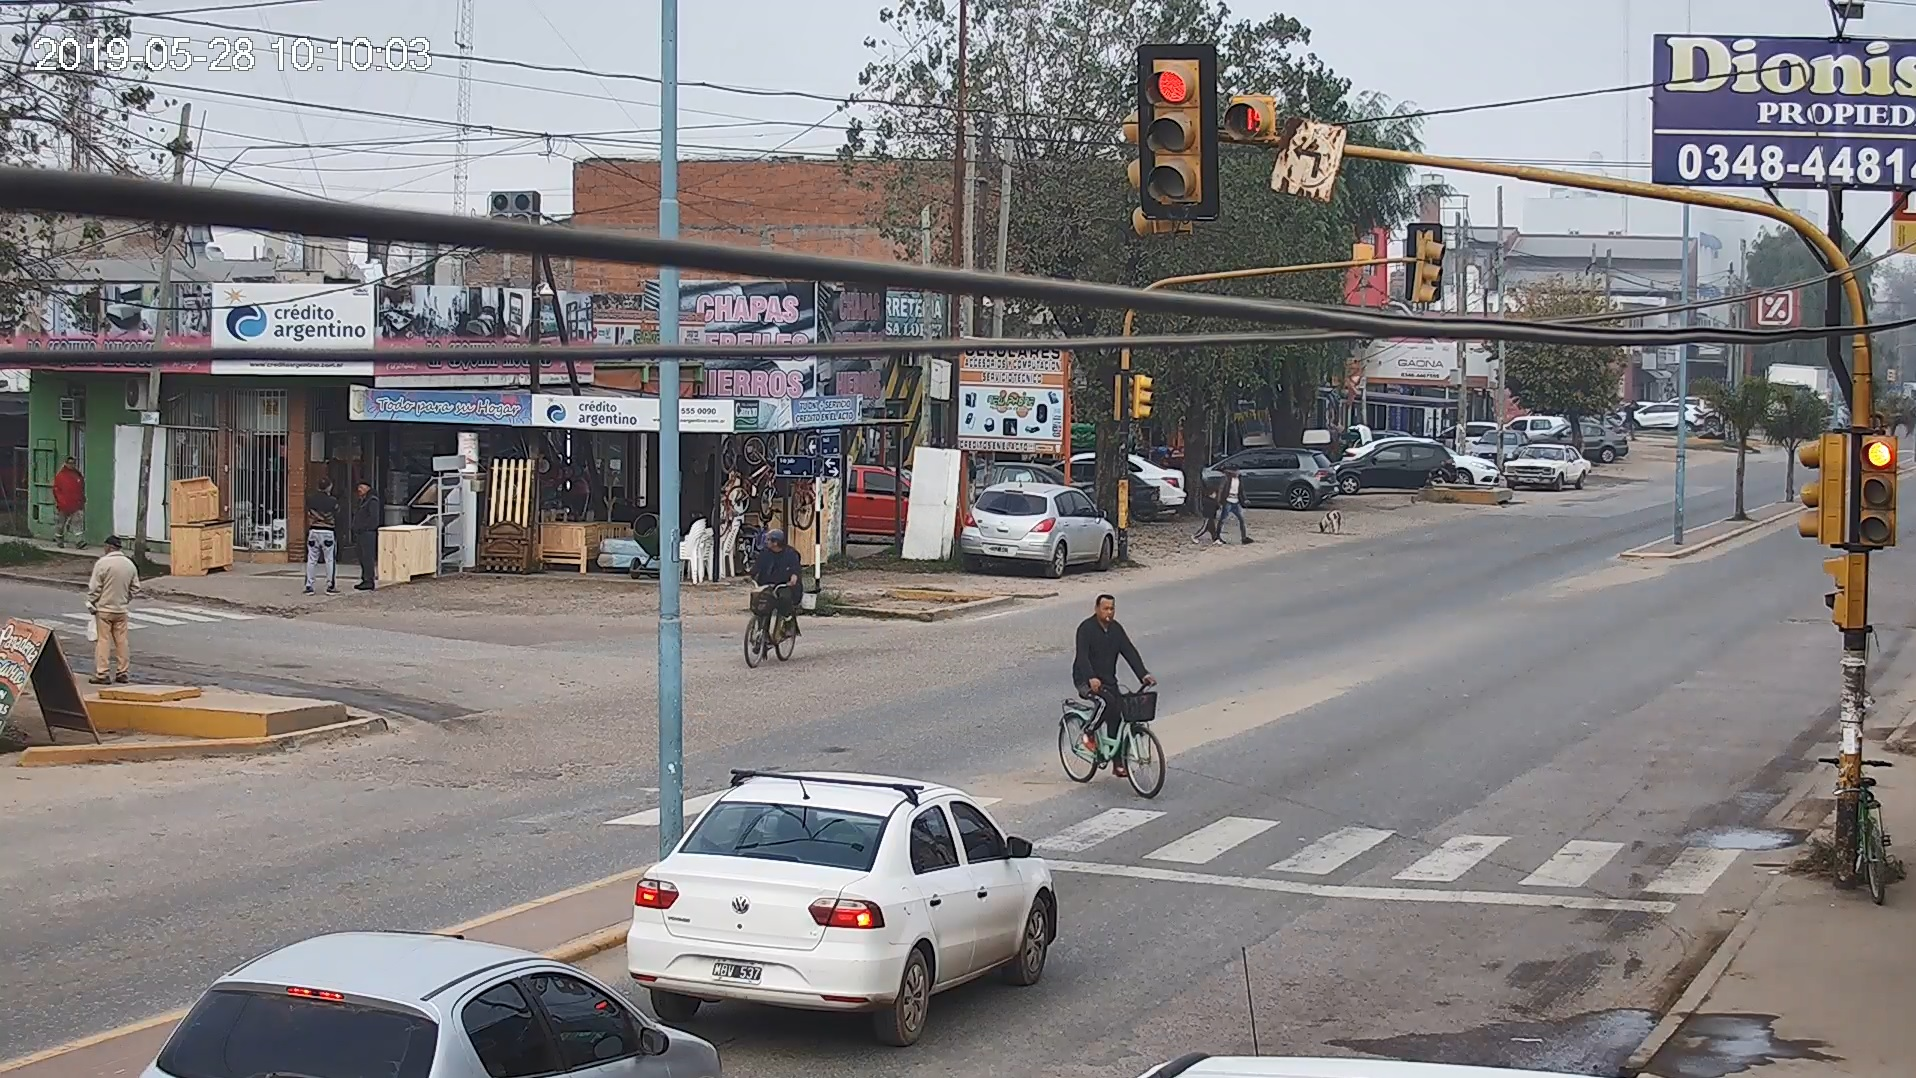bicycle: (1041, 588, 1180, 806), (725, 524, 819, 673)
car: (626, 763, 1063, 1039), (132, 912, 730, 1078), (951, 473, 1125, 587)
